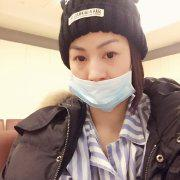WRONG: (67, 40, 138, 111)
